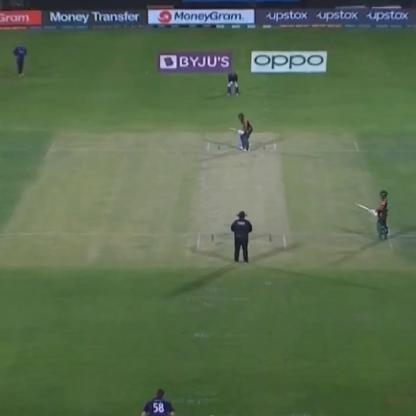bat: (356, 197, 378, 219), (226, 125, 244, 135)
pitch: (191, 135, 284, 256)
